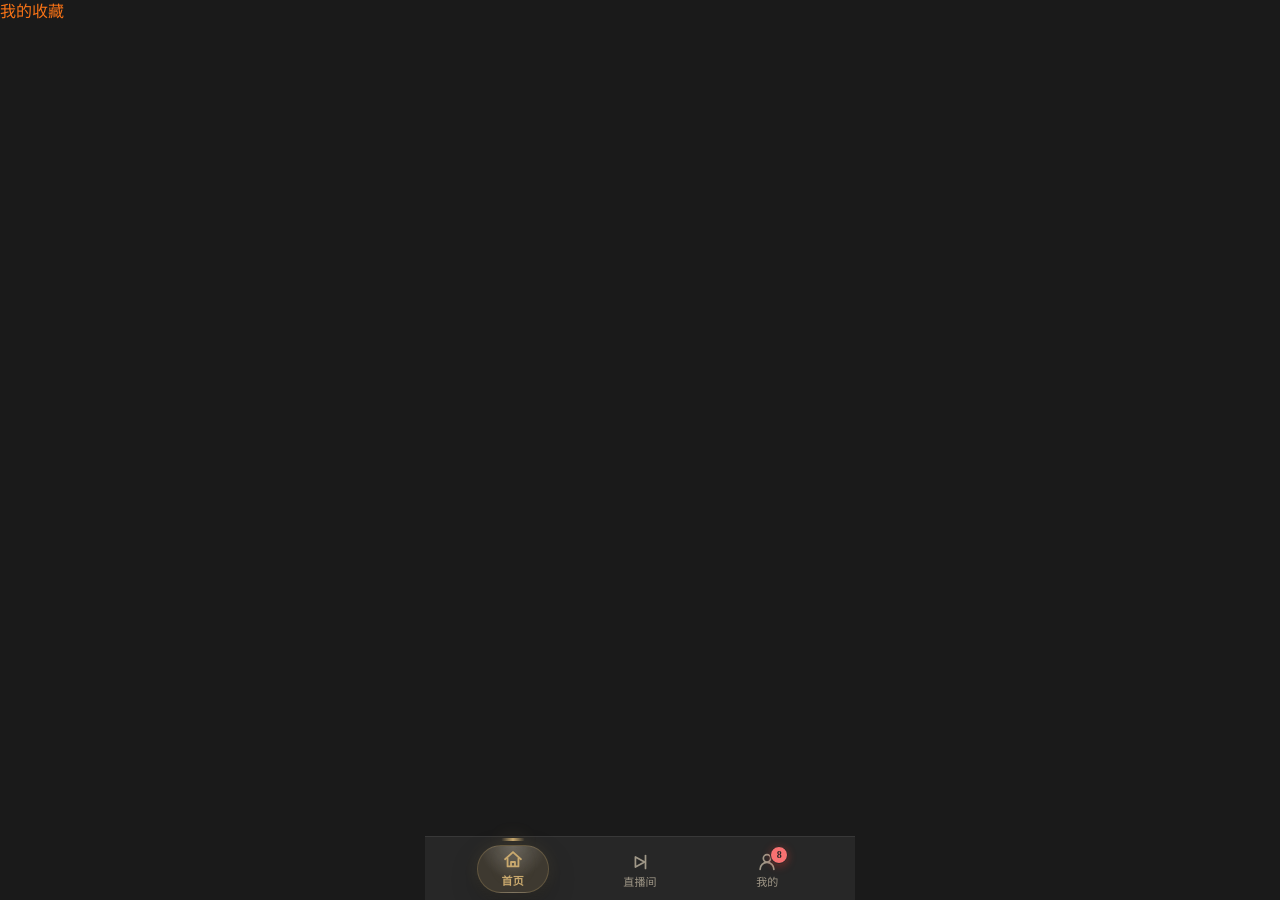
Test: MobileShell › refetches pending live reminder when re-entering pages after login
Click the link "我的收藏": [32, 12] box x1=0 y1=3 x2=64 y2=20
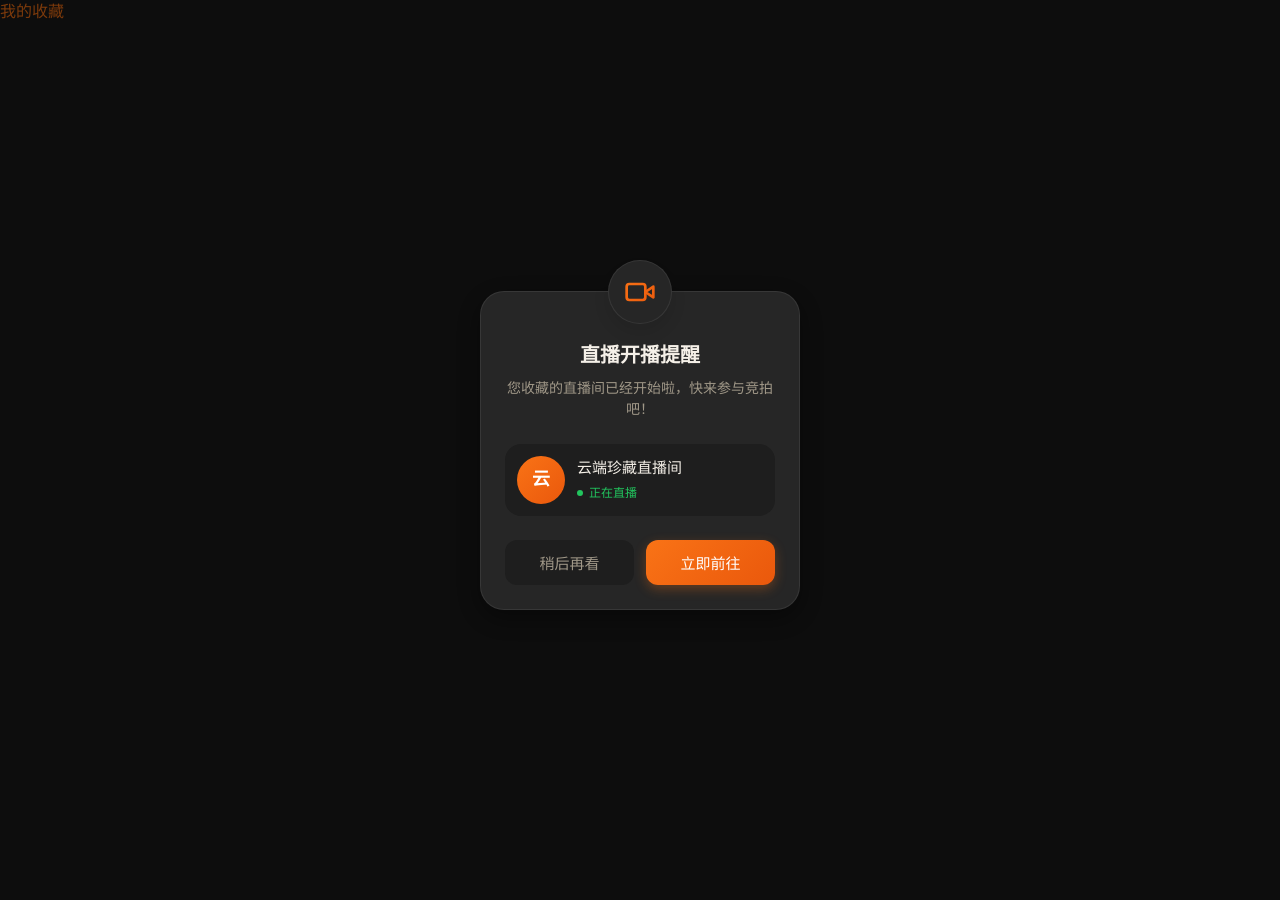
expect the dialog is shown: met, box x1=480 y1=290 x2=800 y2=610
expect the heading "云端珍藏直播间" is shown: met, box x1=577 y1=460 x2=682 y2=476
